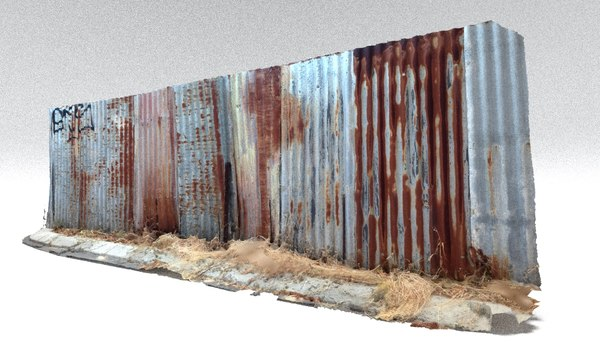rust: (354, 25, 478, 279), (243, 71, 306, 243), (134, 90, 182, 236), (110, 96, 135, 237), (70, 108, 92, 228), (325, 165, 343, 229)
